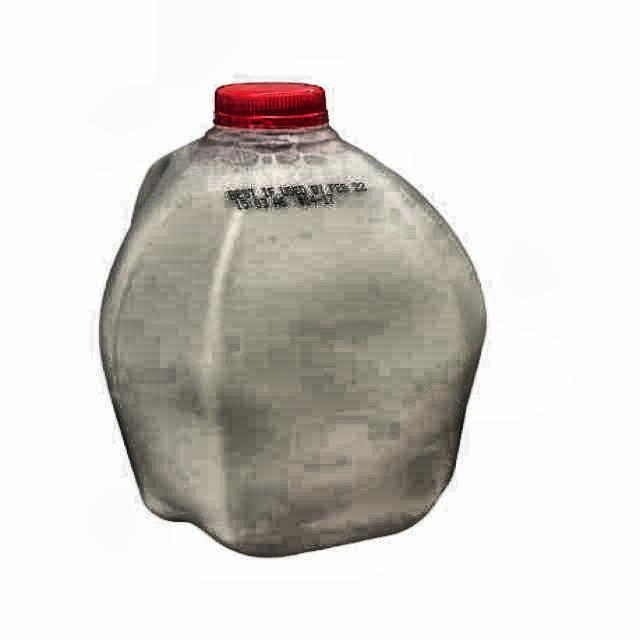plastic: (96, 82, 488, 562)
